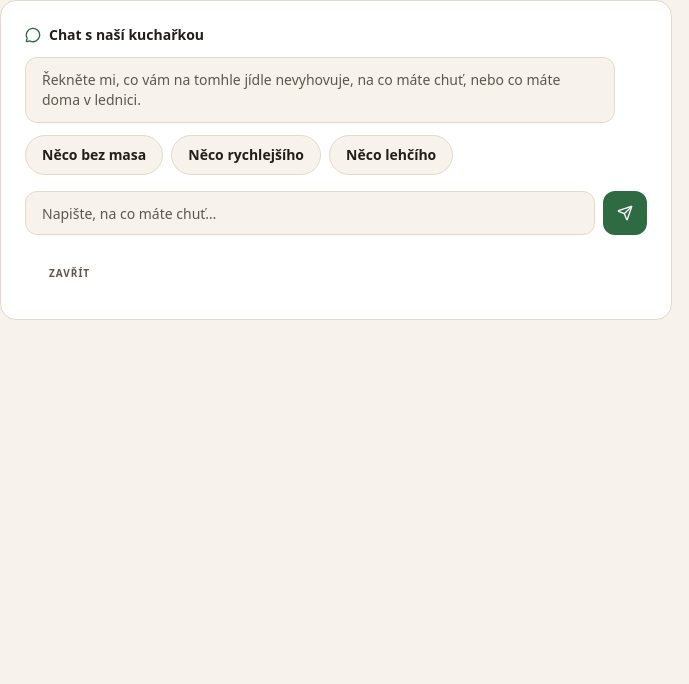
Test: RecipeRefineChat › choosing between alternatives › renders the runners-up next to the pick as a real choice
In the field with placeholder "Napište, na co máte chuť…": (310, 213) [25,191,595,235], type "něco lehčího"
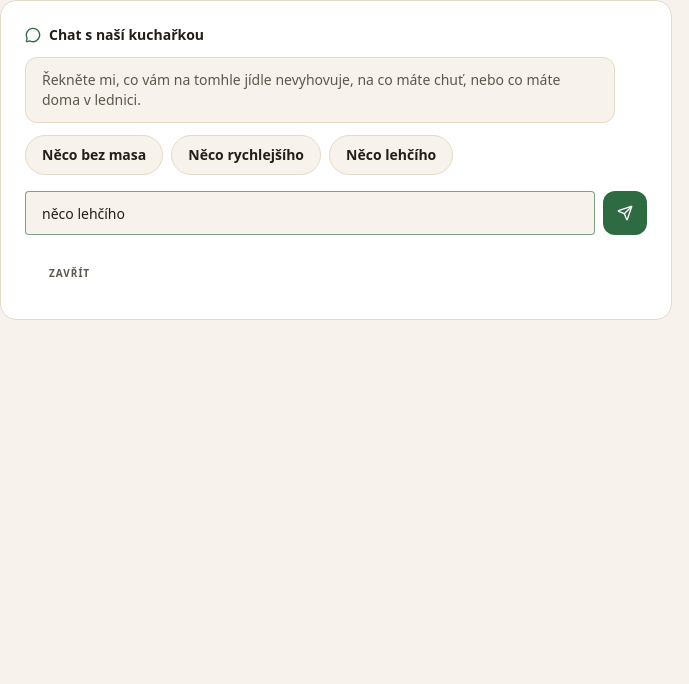
Click the button named "Odeslat": (625, 213) [603,191,647,235]
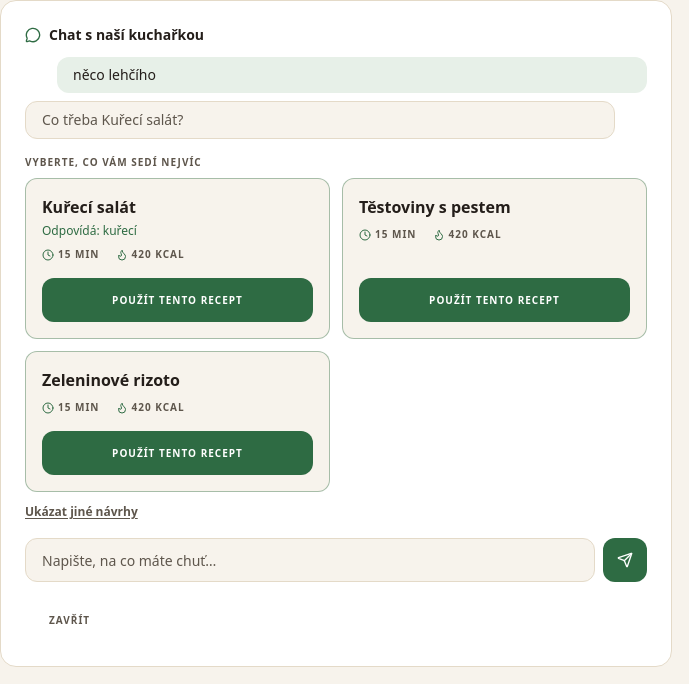
Expected: the text "Vyberte, co vám sedí nejvíc" is shown, [25,155,202,169]
Expected: the text "Těstoviny s pestem" is shown, [359,196,511,218]
Expected: the text "Zeleninové rizoto" is shown, [42,369,180,391]
